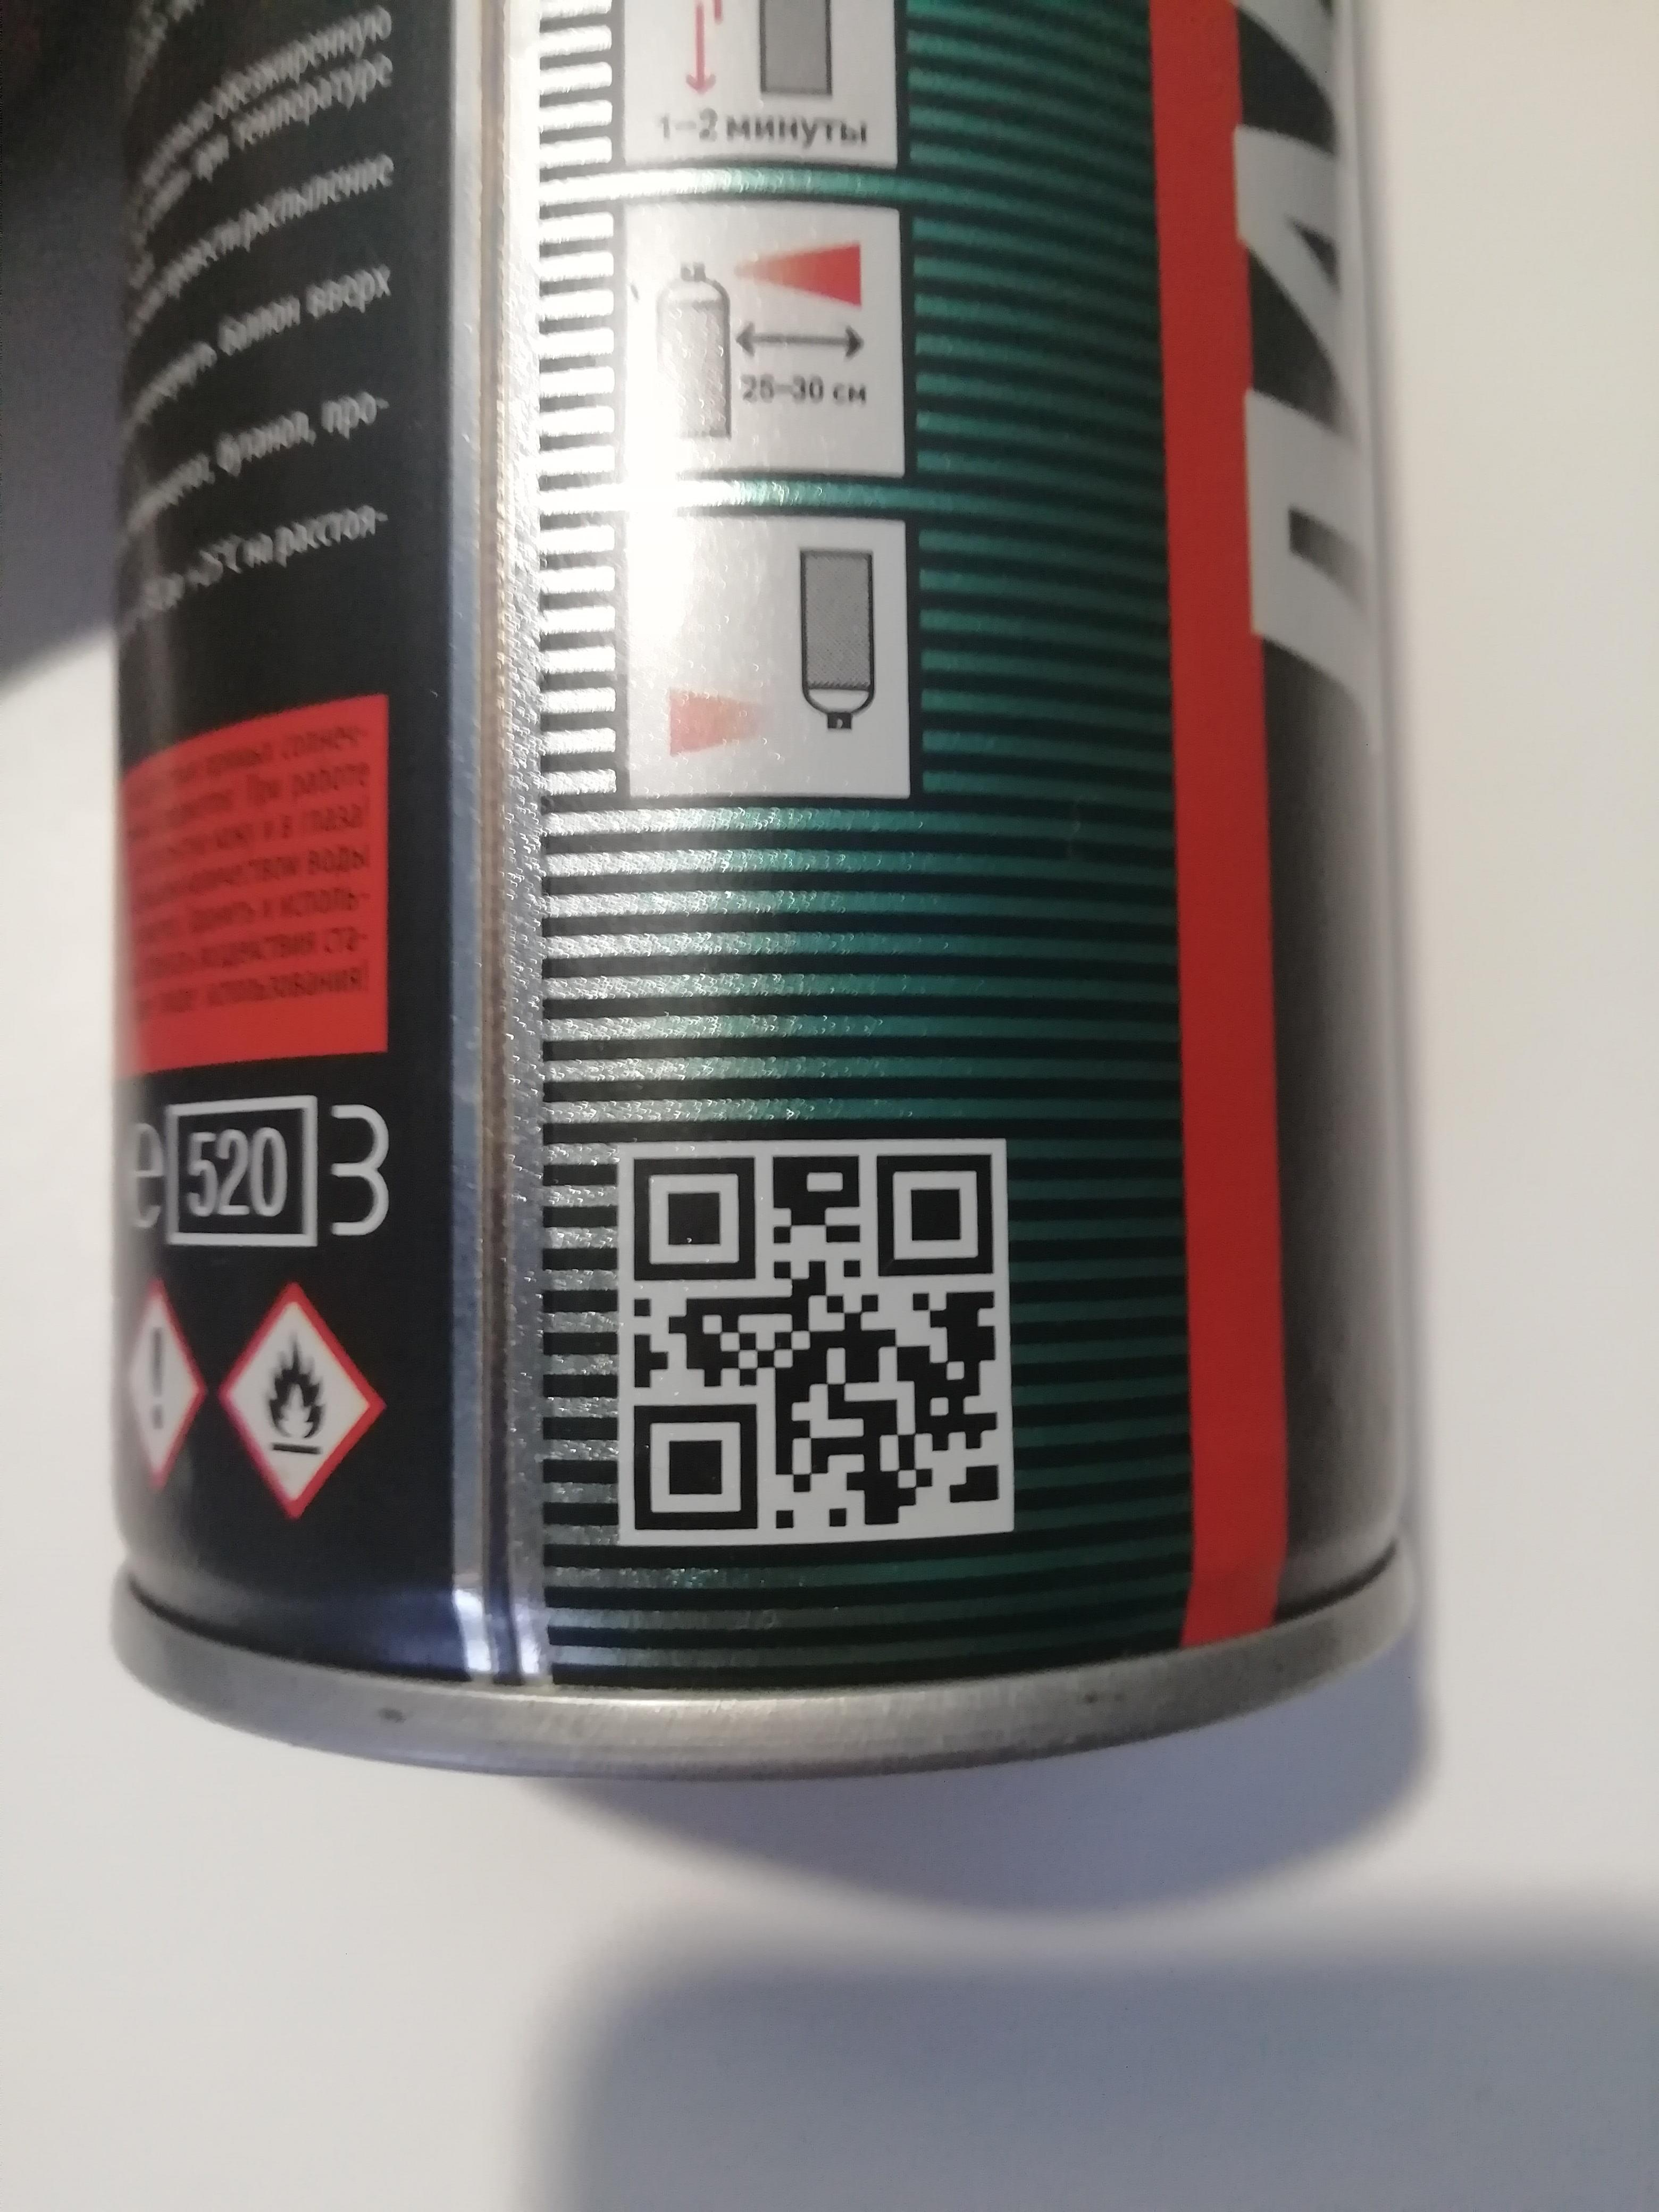qrcode: (633, 1151, 997, 1533)
